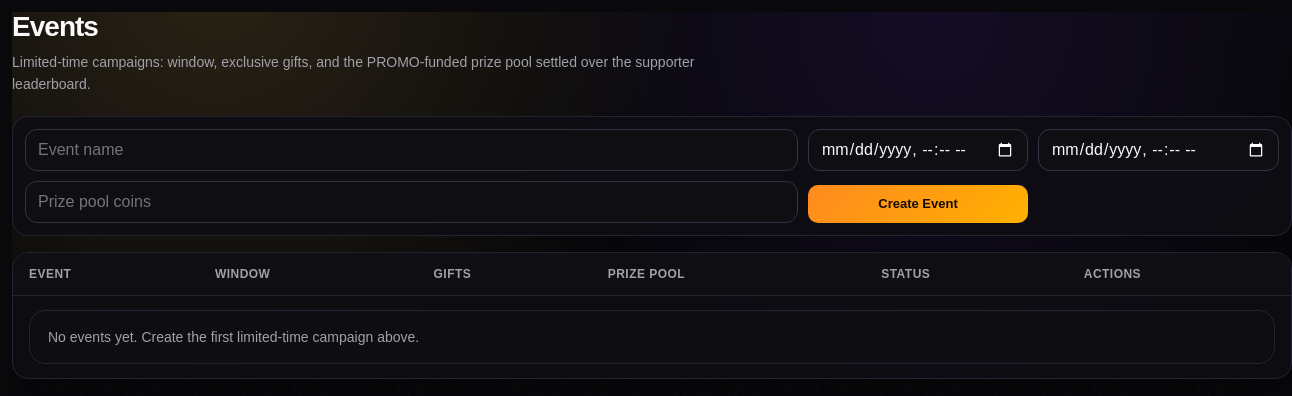
Test case: EventsPage › create failure surfaces the API error
Expected: the text "No events yet. Create the first limited-time campaign above." is shown, [29, 310, 1275, 364]
In the field with placeholder "Event name": (412, 150) [25, 129, 798, 171], type "Bad"
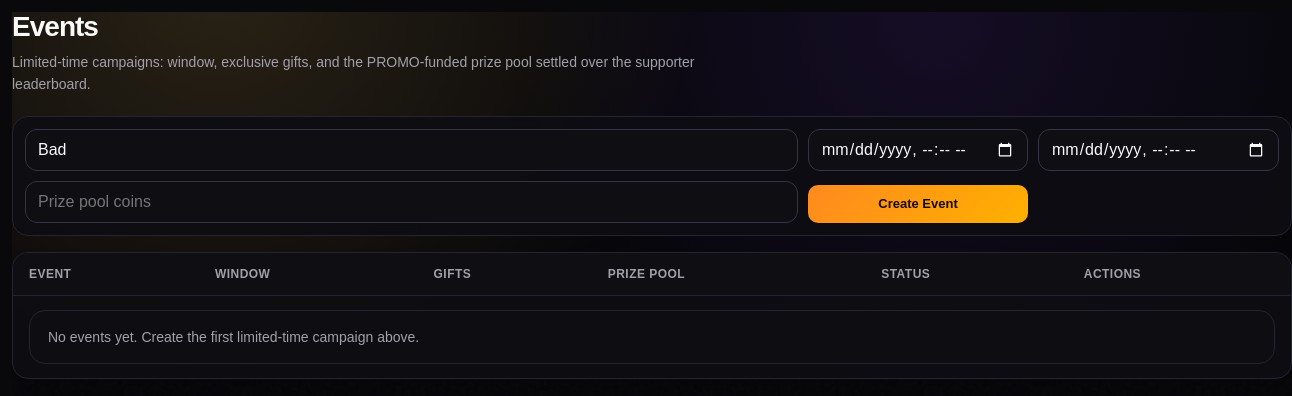
In the field named "Starts at": (918, 150) [808, 129, 1028, 171], type "2026-08-02T18:00"
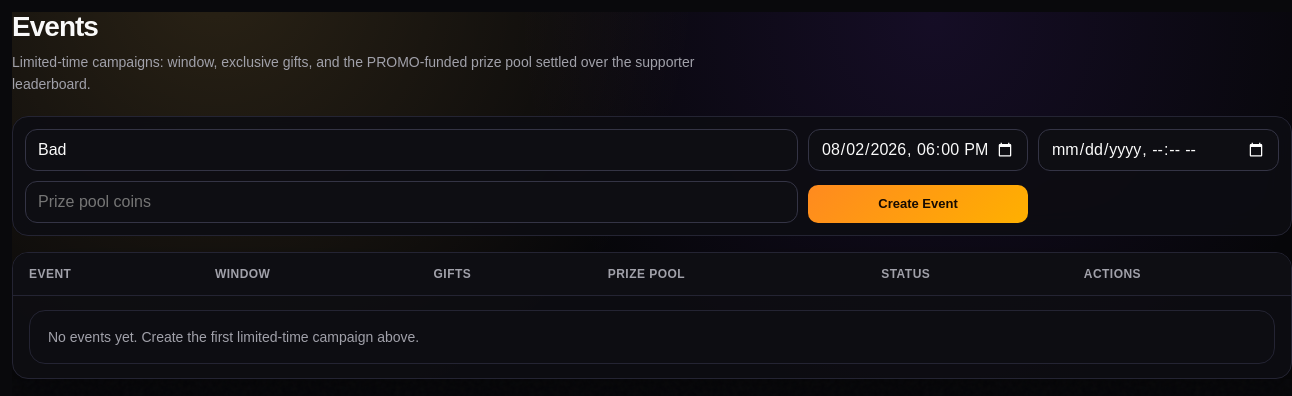
In the field named "Ends at": (1158, 150) [1038, 129, 1279, 171], type "2026-08-01T18:00"
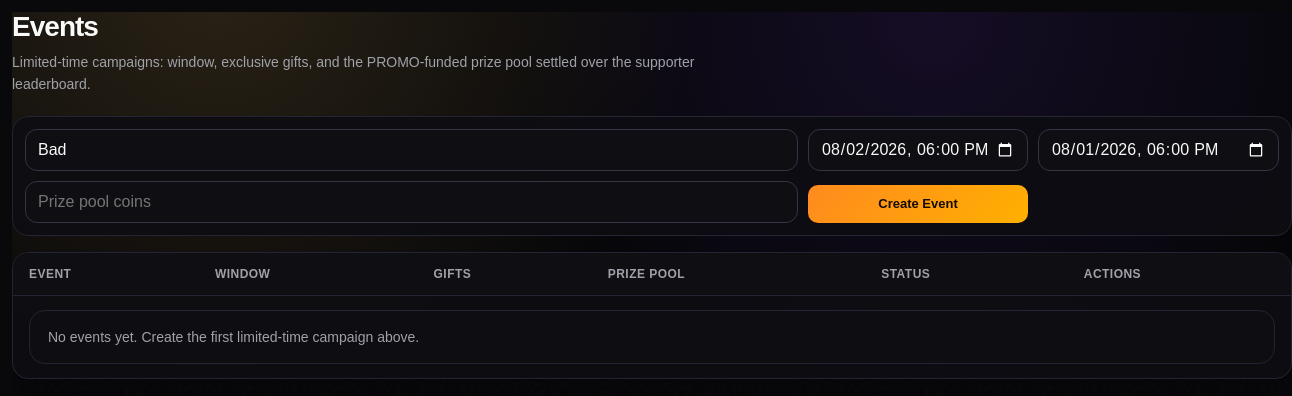
Click the button "Create Event": click(918, 204) [808, 185, 1028, 223]
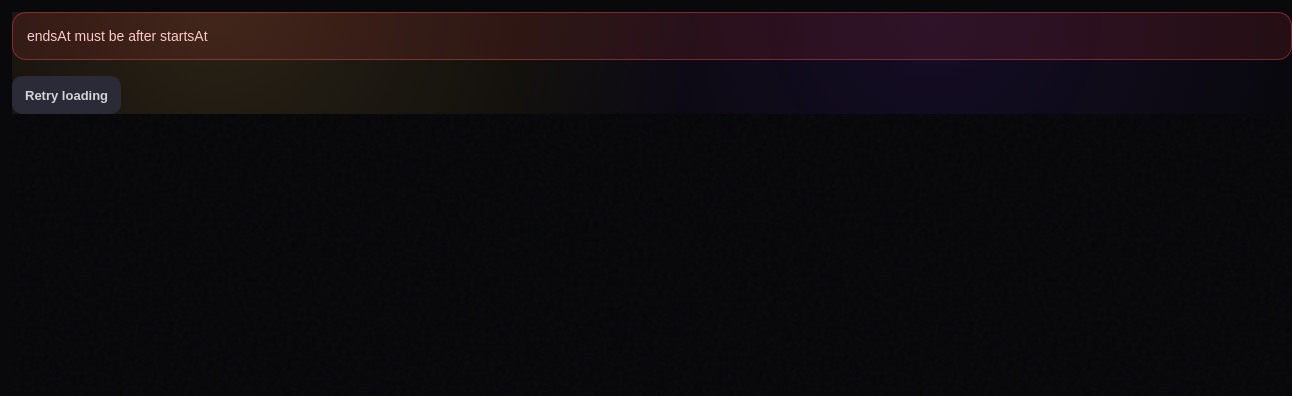
Expected: the text "endsAt must be after startsAt" is shown, [12, 12, 1291, 60]
